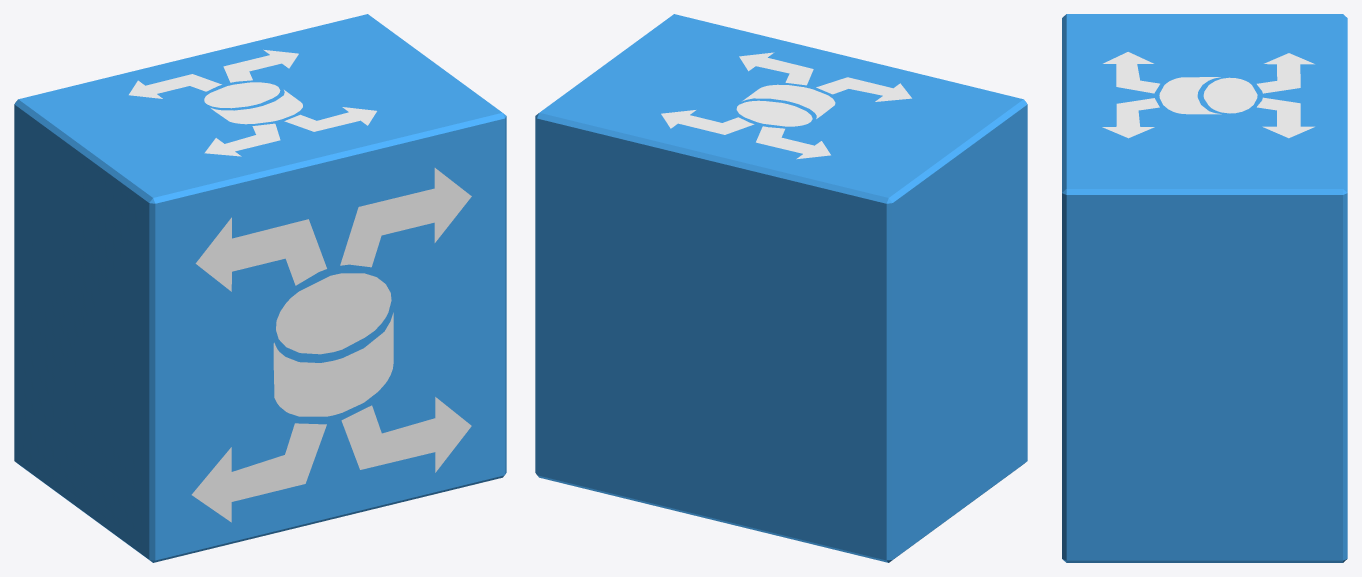
The model's file is SANSwitch.obj.
The picture shows the model from 3 angles, left to right: view 1: azimuth 30°, elevation 25°; view 2: azimuth 150°, elevation 25°; view 3: azimuth 270°, elevation 25°; orthographic projection. The views are drawn at different scales.
Parts seen in each view (by area): view 1: SANSwitch; view 2: SANSwitch; view 3: SANSwitch.
Boxes of the visible parts, left/top/right/bottom form: SANSwitch: left=14, top=14, right=506, bottom=562; SANSwitch: left=535, top=14, right=1027, bottom=562; SANSwitch: left=1062, top=14, right=1347, bottom=562.
Bounding box in the file's own units: 0.9019 × 0.887 × 0.6212.
